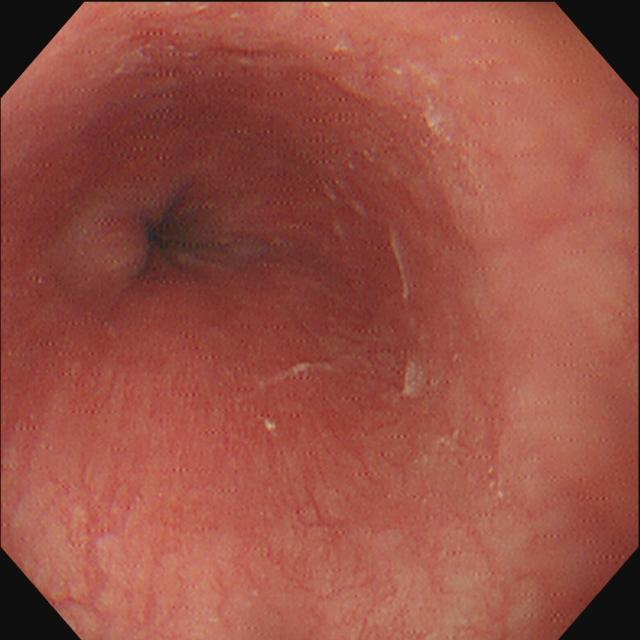I: (76, 160, 283, 333)
